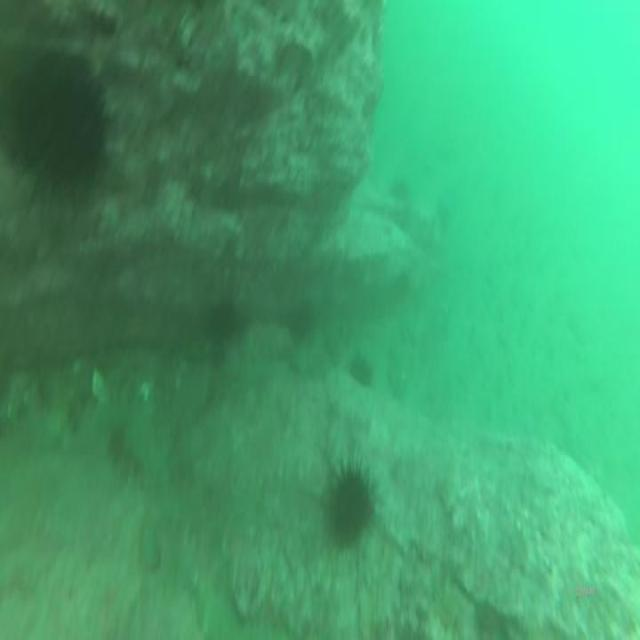echinus: (0, 44, 108, 210), (319, 454, 379, 556), (201, 296, 238, 349), (282, 297, 314, 349), (343, 348, 375, 395), (388, 175, 412, 204)
